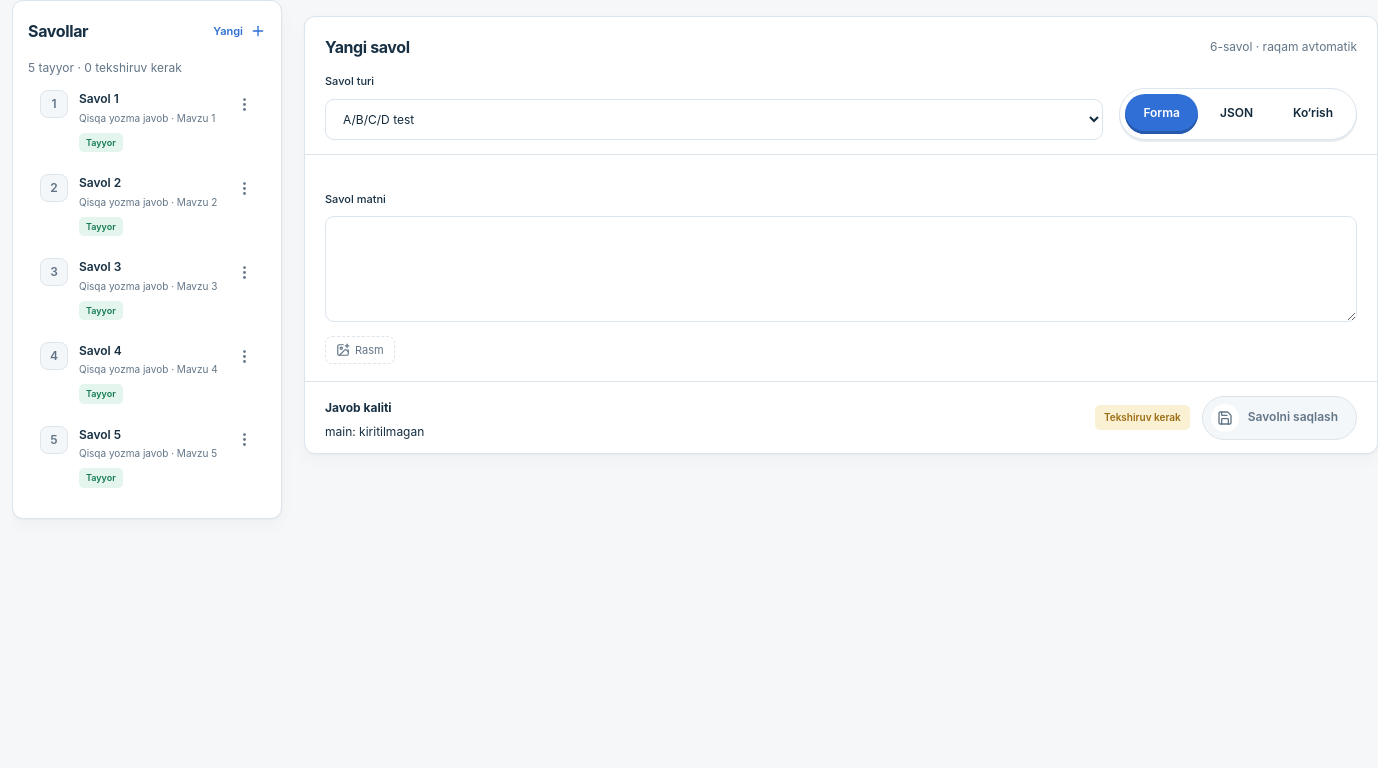
Test: question positioning inside the existing workspace › recovers a failed second step without creating a second copy
Click the button "2 Savol 2" at (128, 205), box x1=28 y1=164 x2=228 y2=246
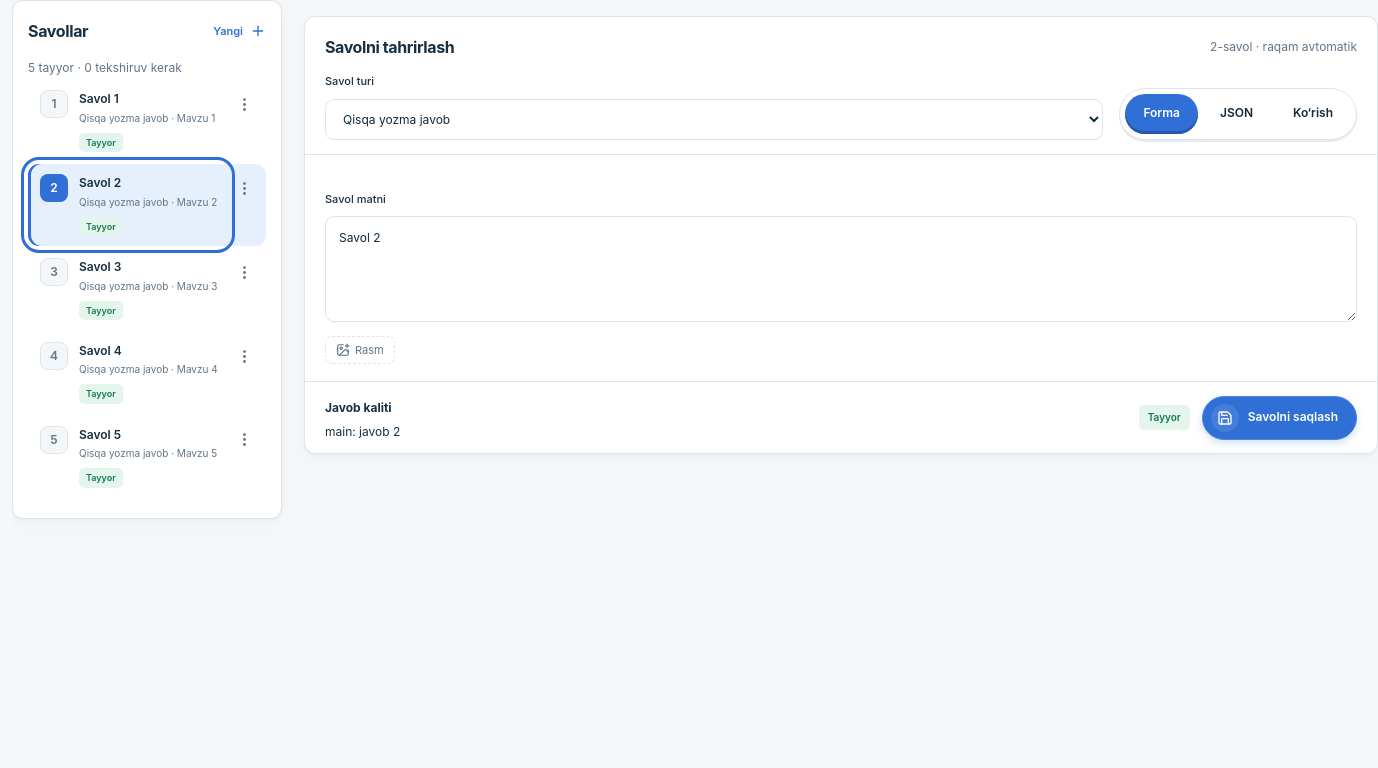
Click the button named "2-savol amallari" at (244, 188), box x1=228 y1=172 x2=260 y2=204
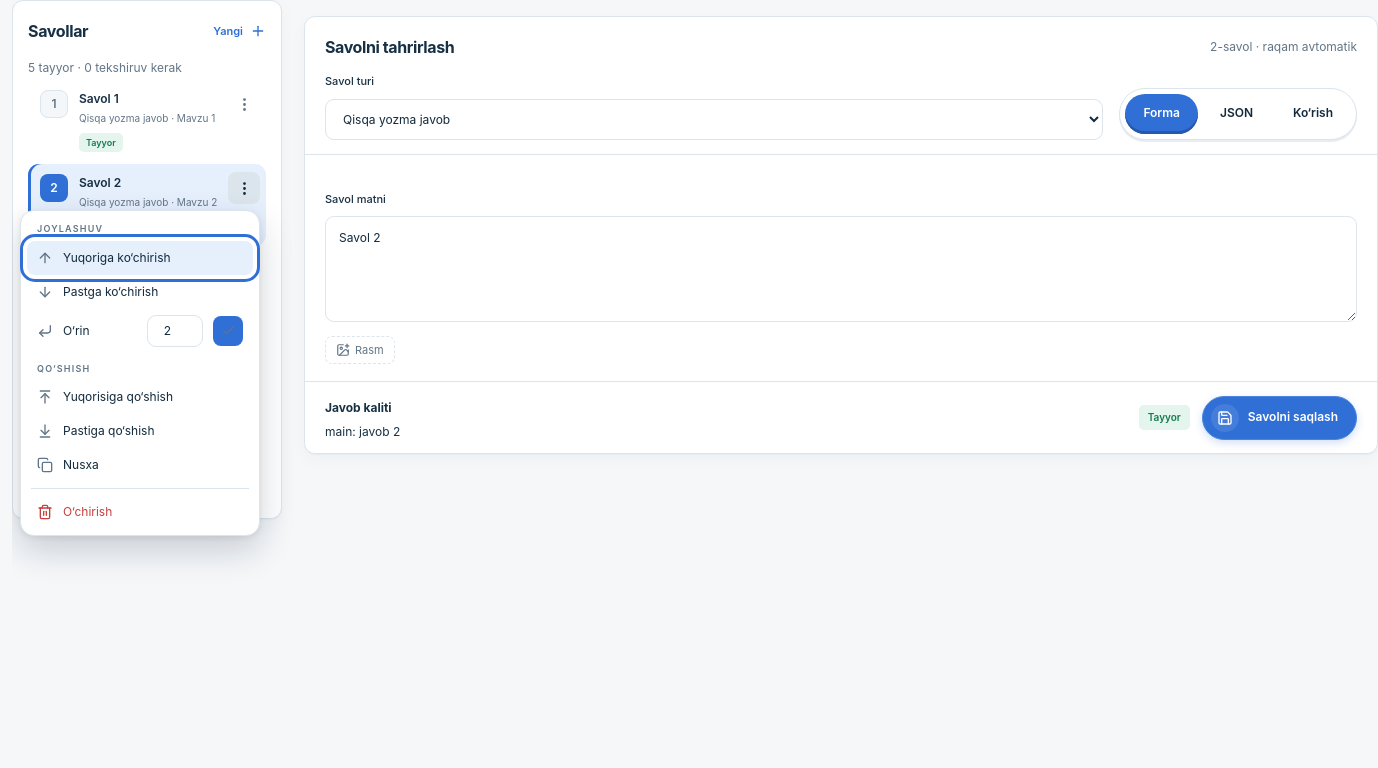
Click the button "Nusxa" at (140, 465), box x1=27 y1=448 x2=253 y2=482
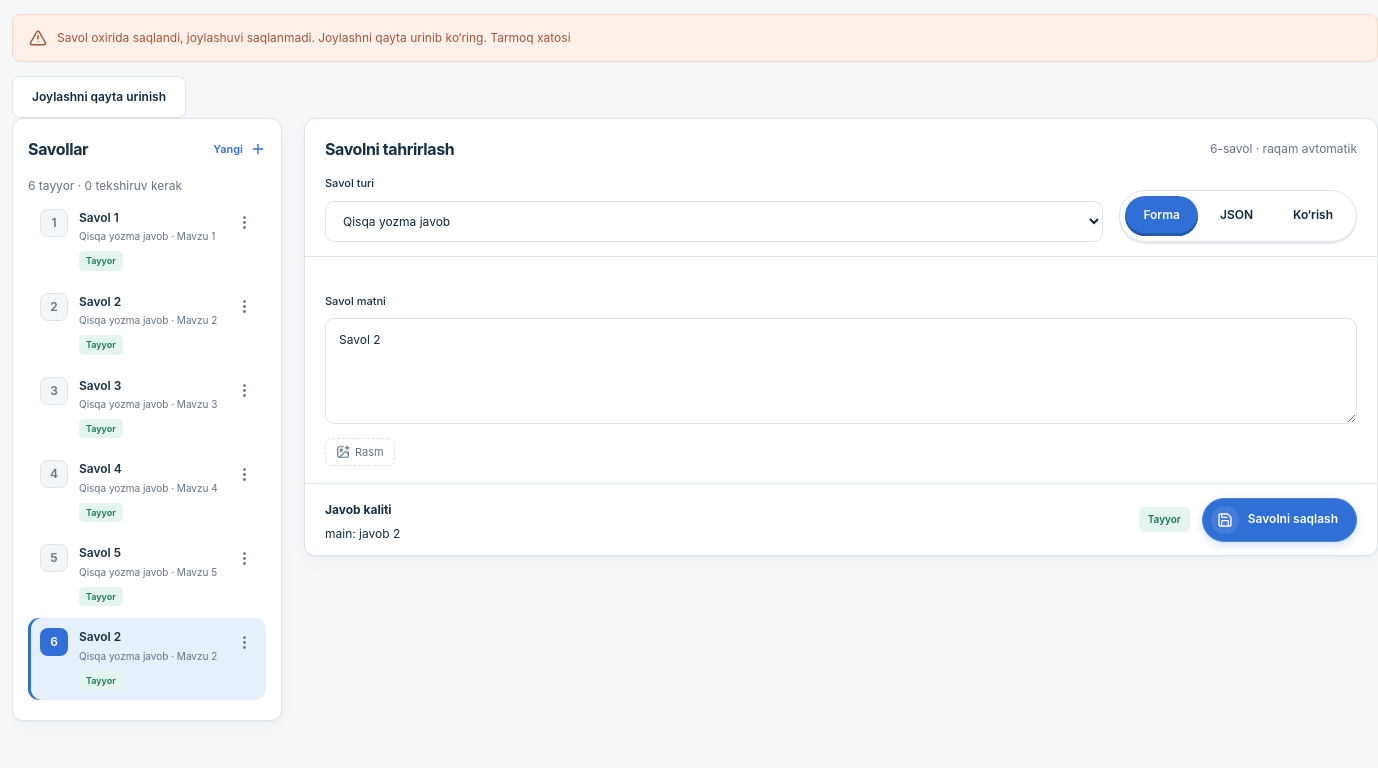
Check: the message shows "Savol oxirida saqlandi", box x1=57 y1=30 x2=571 y2=45
Click the button "Joylashni qayta urinish" at (99, 97), box x1=12 y1=76 x2=186 y2=118
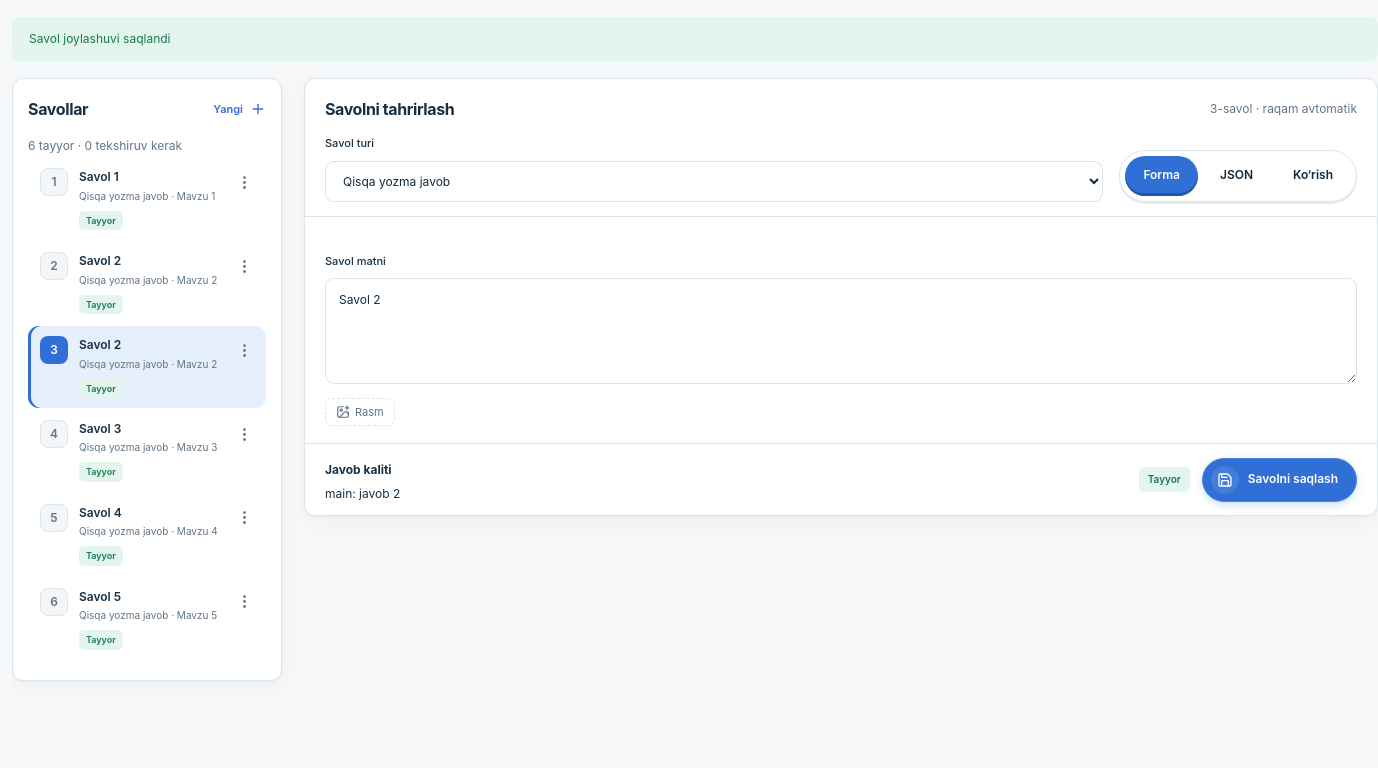
Check: the text "Savol joylashuvi saqlandi" is shown, box x1=12 y1=17 x2=1377 y2=61
